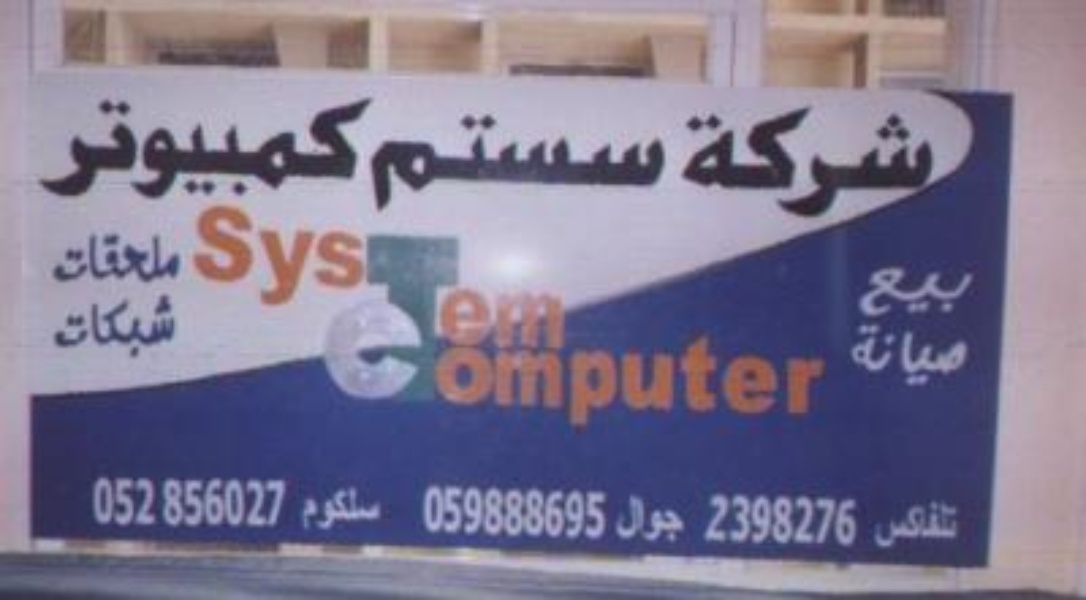text: (321, 296, 336, 429), (337, 296, 352, 429), (353, 296, 368, 429), (369, 296, 384, 429), (385, 296, 400, 429), (401, 296, 416, 429), (417, 296, 432, 429), (433, 296, 448, 429), (449, 296, 464, 429), (465, 296, 480, 429), (481, 296, 496, 429), (497, 296, 512, 429), (513, 296, 528, 429), (529, 296, 544, 429), (545, 296, 560, 429), (561, 296, 576, 429), (577, 296, 592, 429), (593, 296, 608, 429), (609, 296, 624, 429), (625, 296, 640, 429), (641, 296, 656, 429), (657, 296, 672, 429), (673, 296, 688, 429), (689, 296, 704, 429), (705, 296, 720, 429), (721, 296, 736, 429), (737, 296, 752, 429), (753, 296, 768, 429), (769, 296, 784, 429), (785, 296, 800, 429), (801, 296, 816, 429), (689, 101, 704, 220), (705, 101, 720, 220), (721, 101, 736, 220), (737, 101, 752, 220), (753, 101, 768, 220), (769, 101, 784, 220), (785, 101, 800, 220), (801, 101, 816, 220), (817, 101, 832, 220), (833, 101, 848, 220), (849, 101, 864, 220), (865, 101, 880, 220), (881, 101, 896, 220), (897, 101, 912, 220), (913, 101, 928, 220), (65, 93, 80, 201), (81, 93, 96, 201), (97, 93, 112, 201), (113, 93, 128, 201), (129, 93, 144, 201), (145, 93, 160, 201), (161, 93, 176, 201), (177, 93, 192, 201), (193, 93, 208, 201), (209, 93, 224, 201), (225, 93, 240, 201), (241, 93, 256, 201), (257, 93, 272, 201), (273, 93, 288, 201), (289, 93, 304, 201), (305, 93, 320, 201), (321, 93, 336, 201), (337, 93, 352, 201), (353, 93, 368, 201), (817, 296, 829, 429), (193, 201, 208, 307), (209, 201, 224, 307), (225, 201, 240, 307), (241, 201, 256, 307), (257, 201, 272, 307), (273, 201, 288, 307), (289, 201, 304, 307), (305, 201, 320, 307), (321, 201, 336, 307), (337, 201, 352, 307), (369, 112, 384, 212), (385, 112, 400, 212), (401, 112, 416, 212), (417, 112, 432, 212), (433, 112, 448, 212), (449, 112, 464, 212), (465, 112, 480, 212), (481, 112, 496, 212), (497, 112, 512, 212), (513, 112, 528, 212), (529, 112, 544, 212), (545, 112, 560, 212), (561, 112, 576, 212), (577, 112, 592, 212), (593, 112, 608, 212), (609, 112, 624, 212), (625, 112, 640, 212), (641, 112, 656, 212), (929, 101, 940, 220), (353, 201, 364, 307), (161, 291, 177, 362), (65, 291, 80, 362), (81, 291, 96, 362), (97, 291, 112, 362), (113, 291, 128, 362), (129, 291, 144, 362), (145, 291, 160, 362), (849, 324, 864, 389), (865, 324, 880, 389), (881, 324, 896, 389), (897, 324, 912, 389), (913, 324, 928, 389), (929, 324, 944, 389), (945, 324, 960, 389), (449, 288, 464, 351), (465, 288, 480, 351), (481, 288, 496, 351), (497, 288, 512, 351), (513, 288, 528, 351), (529, 288, 544, 351), (545, 288, 560, 351), (313, 296, 320, 429), (593, 486, 609, 543), (145, 473, 161, 530), (657, 112, 666, 212), (865, 264, 880, 321), (881, 264, 896, 321), (897, 264, 912, 321), (913, 264, 928, 321), (929, 264, 944, 321), (945, 264, 960, 321), (721, 492, 736, 549), (737, 492, 752, 549), (753, 492, 768, 549), (769, 492, 784, 549), (785, 492, 800, 549), (801, 492, 816, 549), (817, 492, 832, 549), (833, 492, 848, 549), (433, 486, 448, 543), (449, 486, 464, 543), (465, 486, 480, 543), (481, 486, 496, 543), (497, 486, 512, 543), (513, 486, 528, 543), (529, 486, 544, 543), (545, 486, 560, 543), (561, 486, 576, 543), (577, 486, 592, 543), (97, 473, 112, 530), (113, 473, 128, 530), (129, 473, 144, 530), (49, 231, 64, 286), (65, 231, 80, 286), (81, 231, 96, 286), (97, 231, 112, 286), (113, 231, 128, 286), (129, 231, 144, 286), (145, 231, 160, 286), (161, 231, 176, 286), (881, 497, 896, 552), (897, 497, 912, 552), (913, 497, 928, 552), (929, 497, 944, 552), (161, 476, 176, 530), (177, 476, 192, 530), (193, 476, 208, 530), (209, 476, 224, 530), (225, 476, 240, 530), (241, 476, 256, 530), (257, 476, 272, 530), (961, 264, 975, 321), (706, 492, 720, 549), (945, 497, 959, 552), (625, 492, 640, 543), (641, 492, 656, 543), (657, 492, 672, 543), (673, 492, 688, 543), (419, 486, 432, 543), (961, 324, 972, 389), (305, 486, 320, 533), (321, 486, 336, 533), (337, 486, 352, 533), (353, 486, 368, 533), (273, 476, 286, 530), (849, 492, 861, 549), (369, 486, 383, 533), (438, 288, 448, 351), (869, 497, 880, 552), (614, 492, 624, 543), (856, 264, 864, 321), (561, 288, 568, 351), (177, 231, 185, 286), (58, 291, 64, 362), (685, 101, 688, 220), (90, 473, 96, 530), (369, 93, 372, 201), (63, 93, 64, 201), (367, 112, 368, 212), (302, 486, 304, 533), (47, 231, 48, 286), (689, 492, 690, 543)
